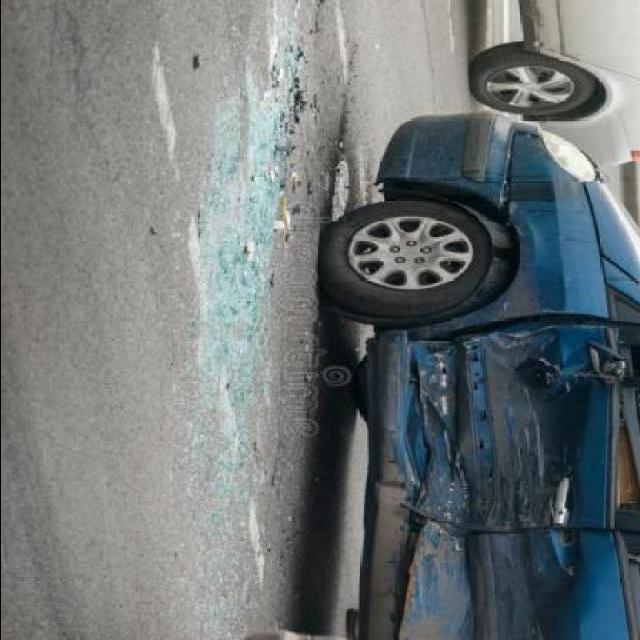doorouter-dent: (354, 309, 640, 525), (354, 493, 638, 640)
